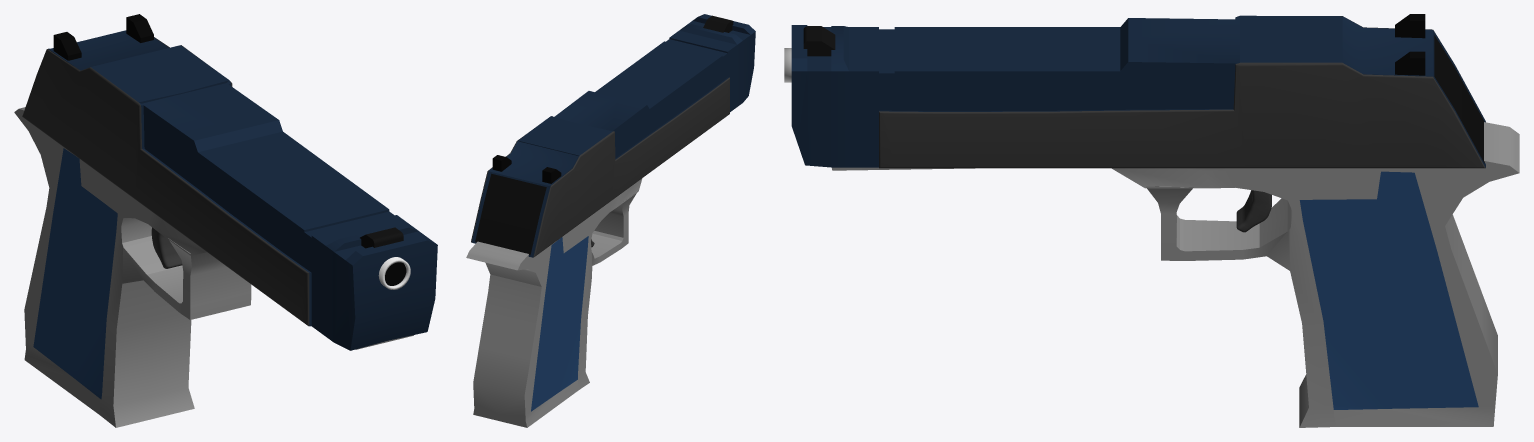
The model's file is grapplinggun.fbx.
3 views of the same model, side by side, from view 1: azimuth 30°, elevation 25°; view 2: azimuth 150°, elevation 25°; view 3: azimuth 270°, elevation 25° (orthographic). The views are drawn at different scales.
Parts seen in each view (by area): view 1: top, bottom, top.001, sides, top.003, Cube, Cube.002, Cylinder, Cylinder.001; view 2: top, bottom, top.001, sides, top.002, top.003, Cube.002; view 3: top, top.001, bottom, sides, top.002, top.003, Cube, Cube.002.
Part boxes in pixels (<box>): top: <box>48,30,437,350</box>; bottom: <box>14,107,413,427</box>; top.001: <box>22,37,309,326</box>; sides: <box>33,148,117,399</box>; top.003: <box>53,14,153,60</box>; Cube: <box>151,227,182,268</box>; Cube.002: <box>360,227,403,248</box>; Cylinder: <box>378,257,410,289</box>; Cylinder.001: <box>385,262,406,285</box>; top: <box>471,14,755,257</box>; bottom: <box>466,178,642,427</box>; top.001: <box>471,77,729,257</box>; sides: <box>531,236,588,411</box>; top.002: <box>475,173,546,255</box>; top.003: <box>492,155,561,183</box>; Cube.002: <box>703,15,733,32</box>; top: <box>791,15,1485,167</box>; top.001: <box>879,16,1485,168</box>; bottom: <box>832,122,1519,427</box>; sides: <box>1299,171,1478,409</box>; top.002: <box>1434,35,1484,163</box>; top.003: <box>1395,14,1425,75</box>; Cube: <box>1236,190,1271,232</box>; Cube.002: <box>803,26,835,56</box>.
Bounding box in the file's own units: 69.75 × 252 × 449.
